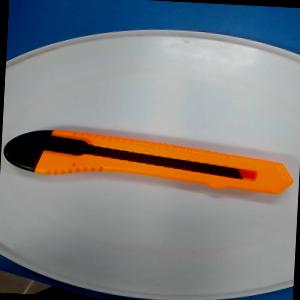estilete: (1, 126, 296, 196)
